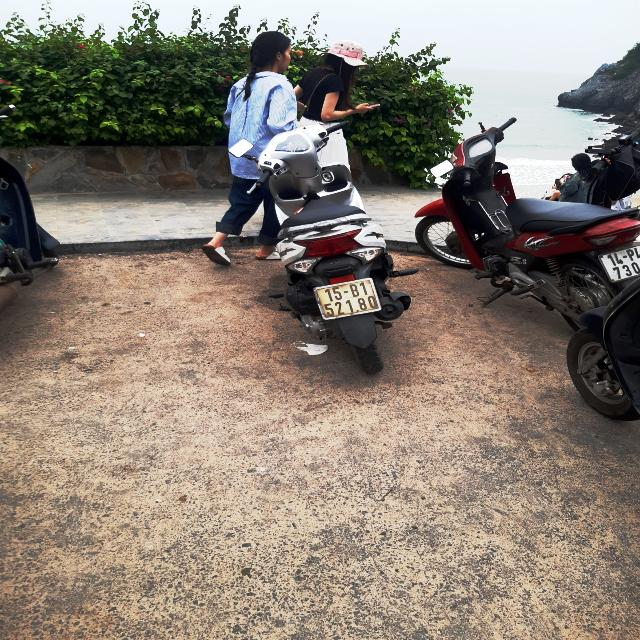license_plate: (310, 276, 387, 324)
